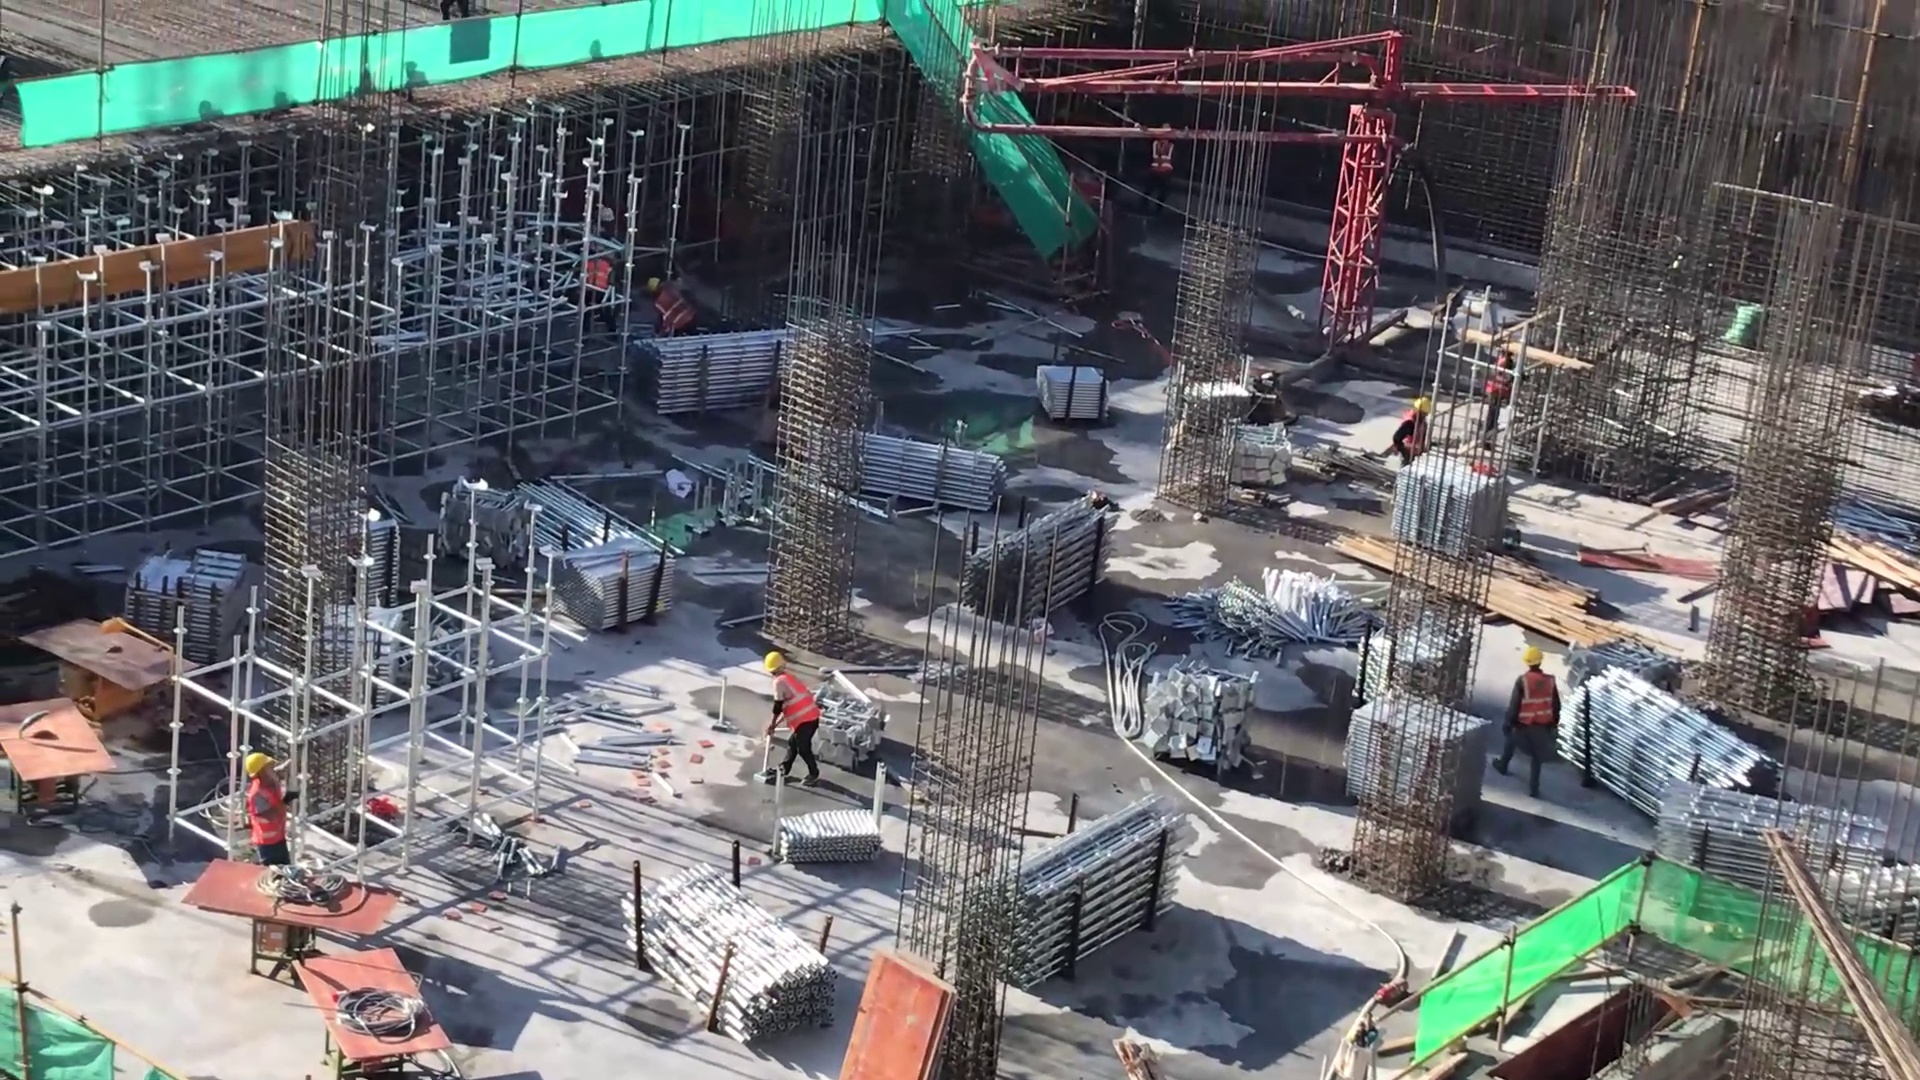board: (838, 943, 969, 1080)
cutter: (268, 942, 473, 1080), (186, 855, 401, 987), (1, 674, 109, 856), (30, 610, 197, 727)
helmet: (242, 749, 283, 786), (1408, 391, 1439, 431), (762, 646, 791, 682), (1517, 645, 1548, 674), (645, 276, 662, 294)
person: (1493, 637, 1563, 798), (755, 644, 830, 795), (245, 740, 290, 872), (1388, 387, 1436, 479), (644, 268, 709, 334), (583, 234, 618, 338), (1145, 122, 1177, 205)
scaffold: (972, 776, 1195, 995), (622, 853, 833, 1057), (1565, 653, 1779, 852), (1661, 778, 1895, 938), (970, 491, 1127, 638), (630, 324, 862, 416), (116, 542, 270, 670), (502, 474, 701, 569), (834, 430, 1011, 516), (1388, 454, 1516, 556), (1811, 856, 1920, 971), (563, 531, 681, 633), (779, 799, 876, 877), (346, 515, 407, 615)
vest: (245, 780, 291, 855), (766, 677, 823, 734), (1514, 669, 1556, 729), (655, 286, 700, 337), (1397, 413, 1435, 463), (1150, 138, 1176, 179), (588, 258, 614, 297)
